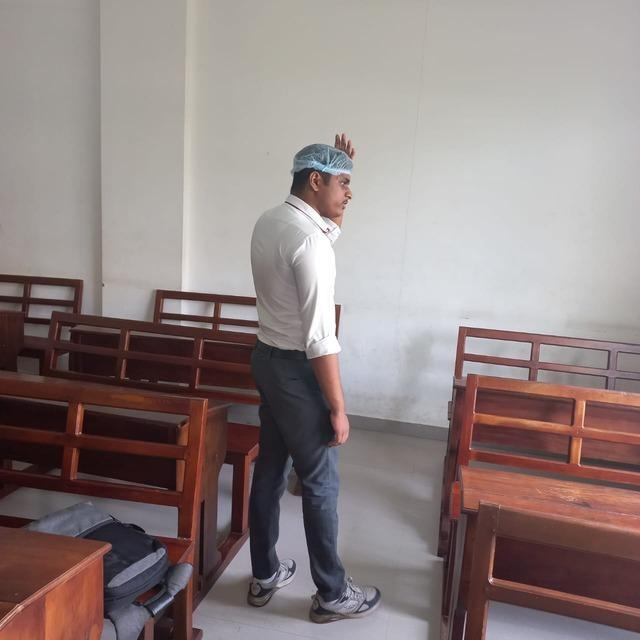gloves: (292, 142, 356, 180)
no_apron: (310, 411, 370, 456), (323, 122, 363, 162)
no_hairnet: (300, 178, 358, 224)
